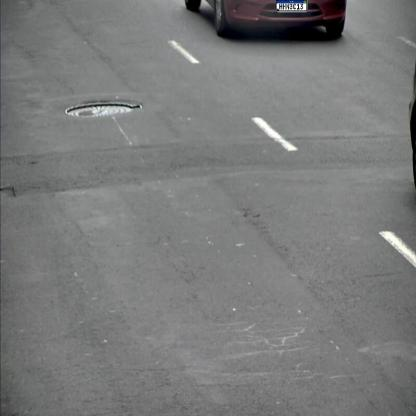PlacaM: (276, 0, 307, 11)
